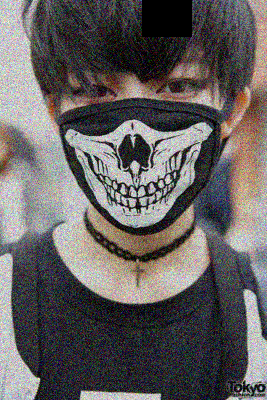with_mask: (56, 47, 223, 238)
